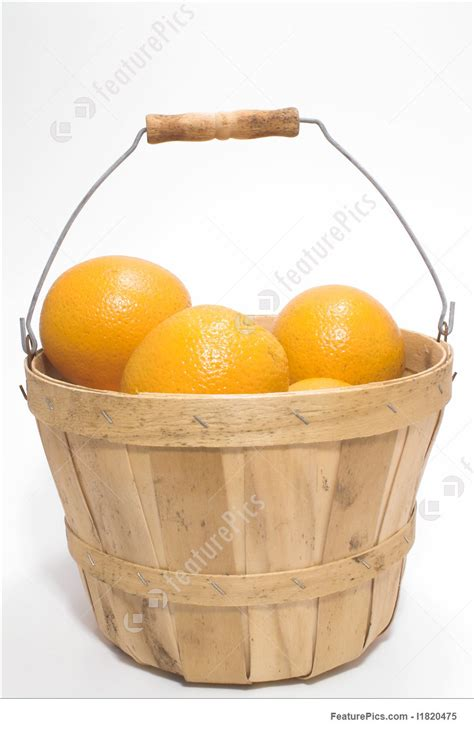orange: (32, 254, 194, 392), (122, 301, 293, 406), (259, 281, 406, 386)
